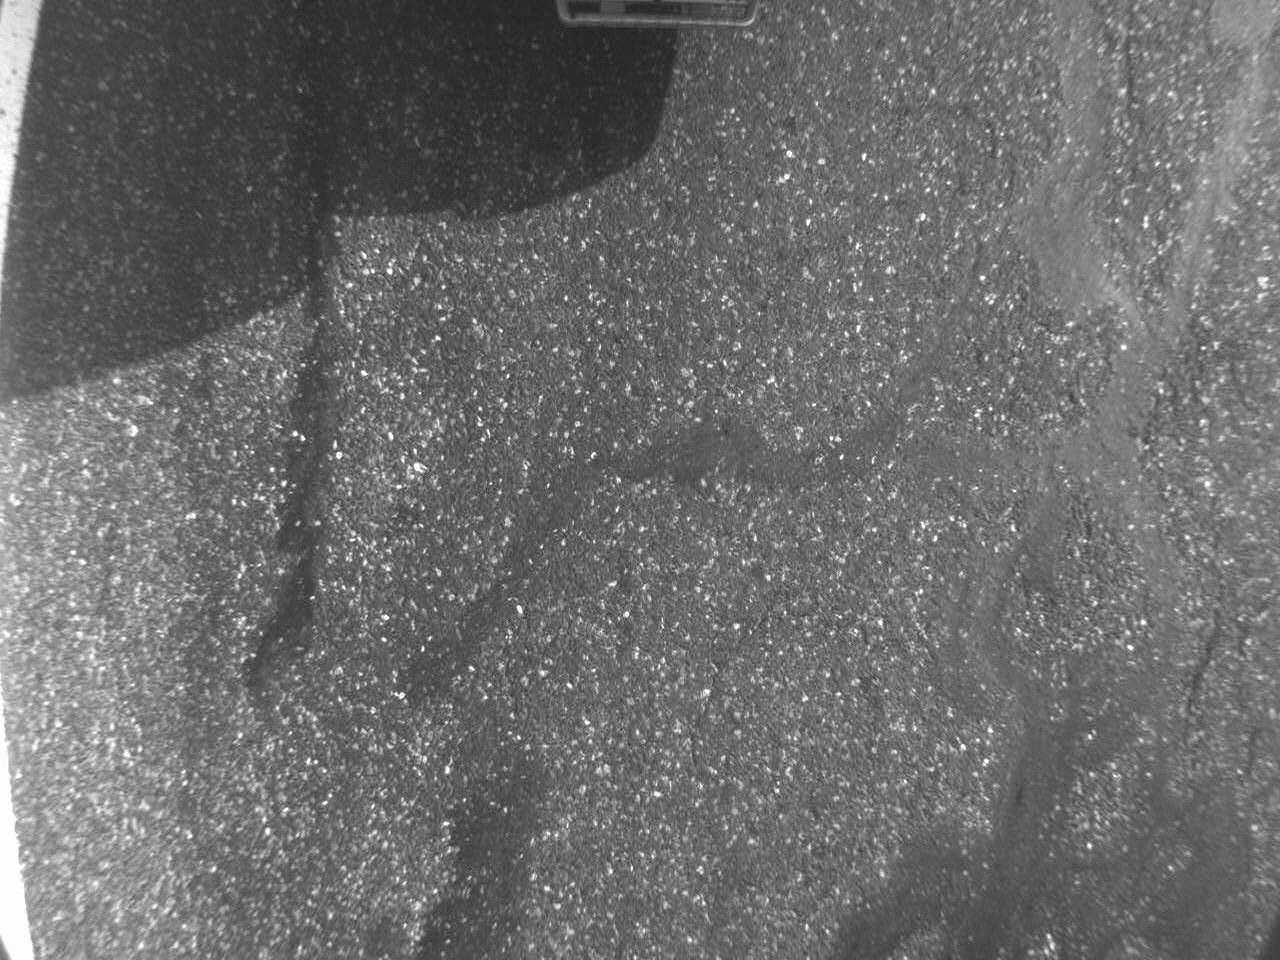sealed: (238, 212, 348, 695)
